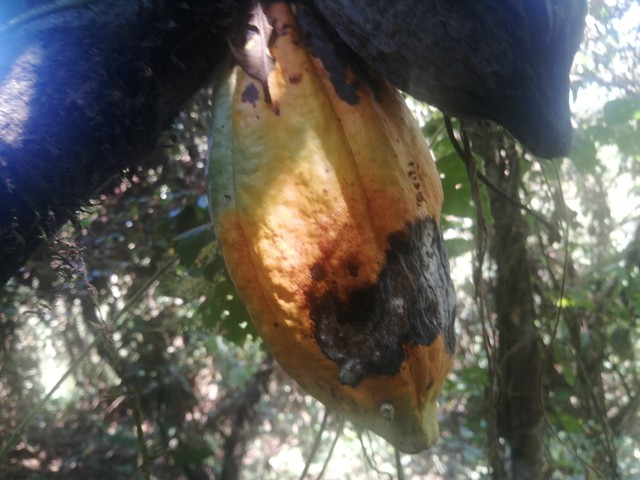moniliophthora roreri: (158, 0, 497, 465)
